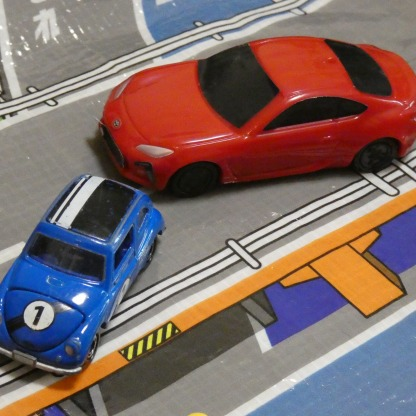car: (96, 36, 416, 191), (0, 174, 165, 378)
